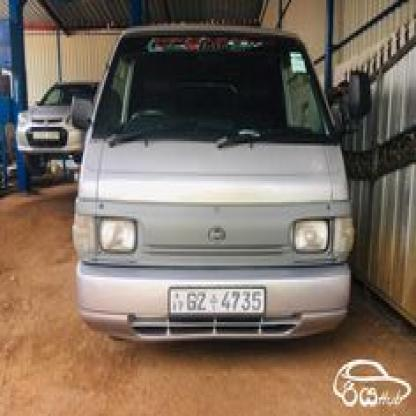number plate: (167, 287, 266, 310)
van front: (73, 14, 374, 347)
